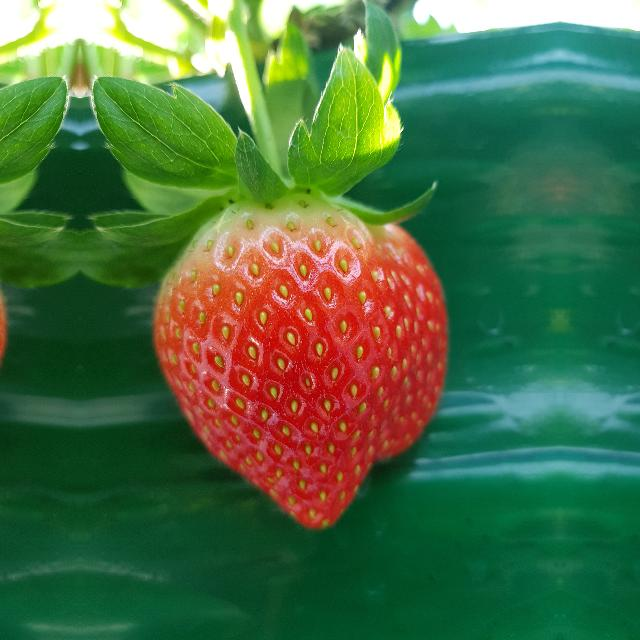Health_100: (152, 193, 448, 531)
